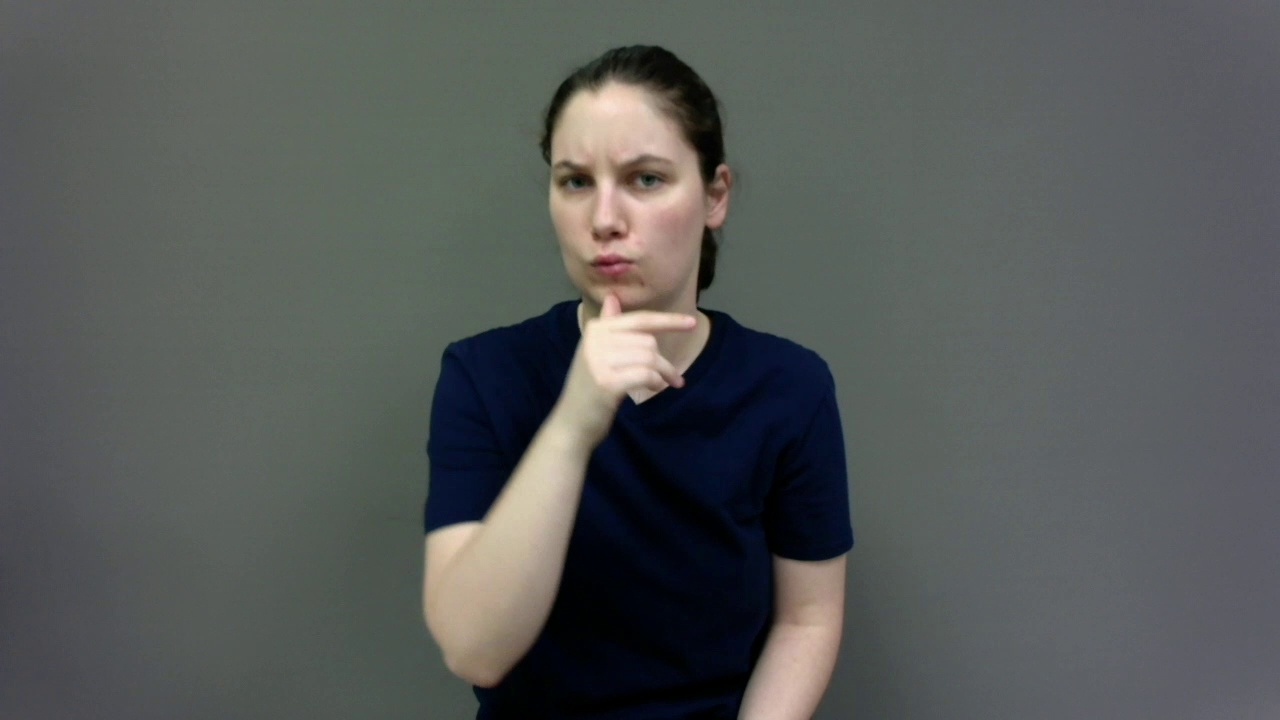who: (461, 216, 772, 430)
